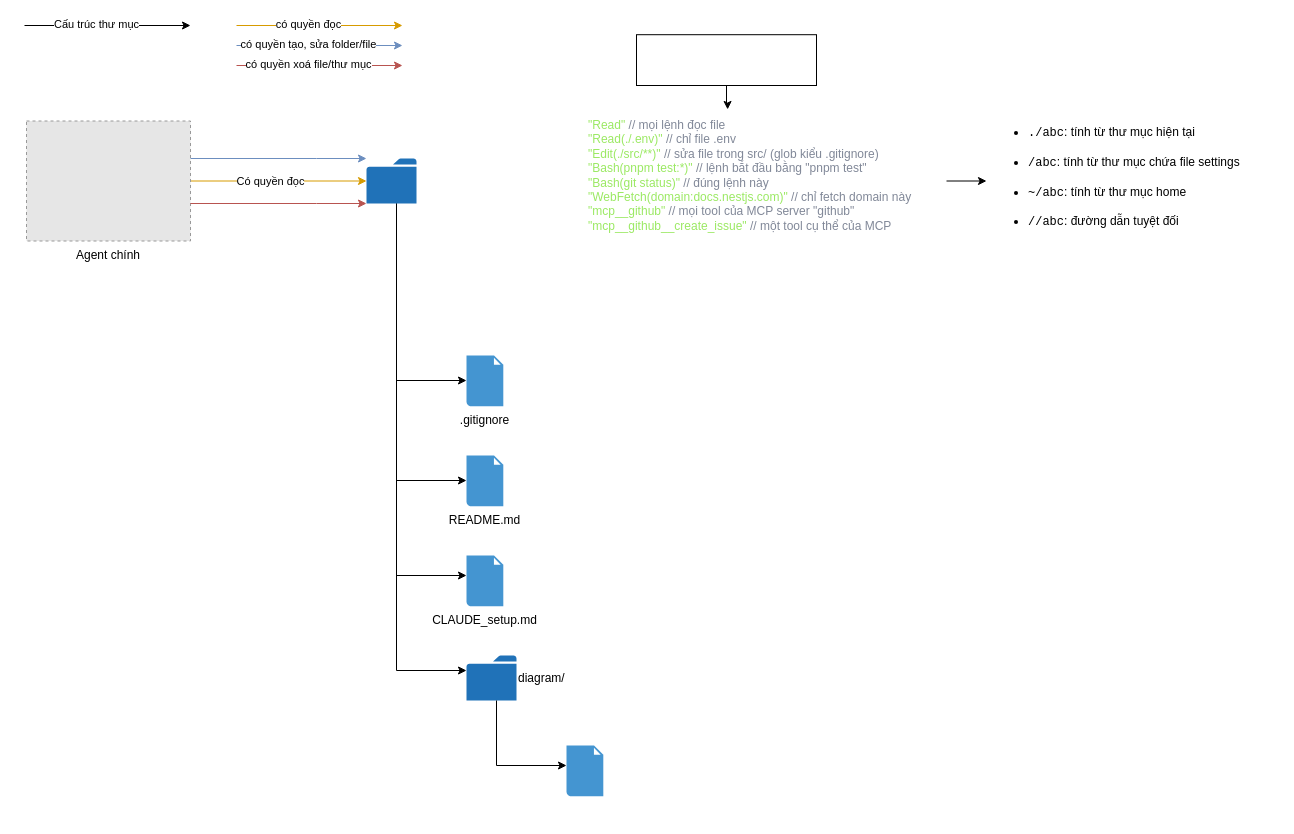
The diagram is 1294 pixels wide and 834 high, and some of its shapes have lost their labels. Grey dashed boxes stand in for pictures. Here are the shapes that lost their labels. From the top down, the centre of each, then its label:
At pixel 726 60: "Các lệnh cơ bản set up trong settings.json".
At pixel 391 180: "AI-native-SDLC-practice".
At pixel 584 770: "AgentInteractFlow (1).drawio".
